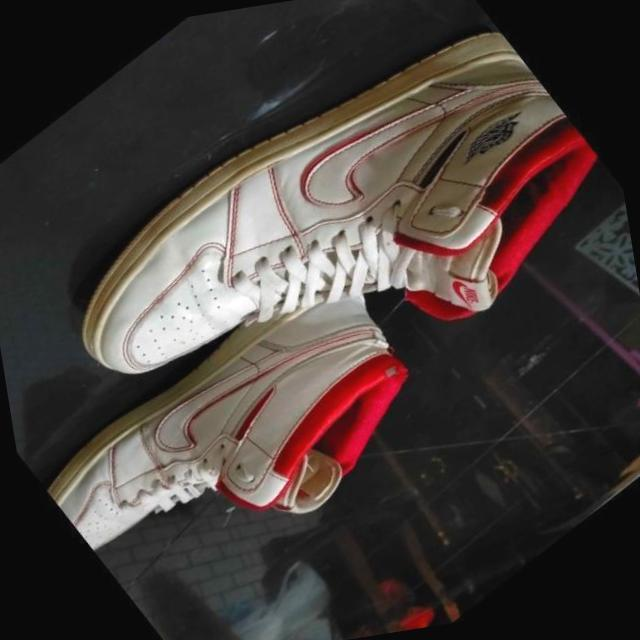nike_fake_jordan: (2, 0, 640, 547), (9, 225, 487, 640)
